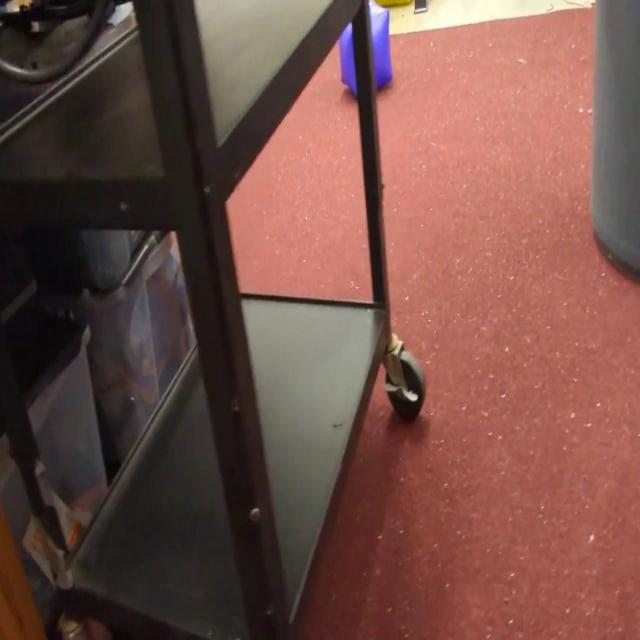frc_cube: (340, 0, 392, 100)
